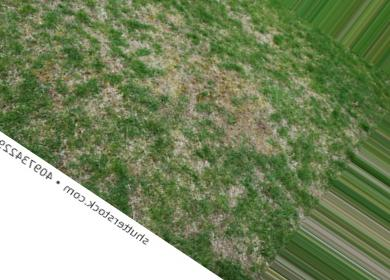patch: (145, 21, 197, 101), (220, 89, 267, 149), (80, 31, 114, 63), (175, 133, 196, 164)
